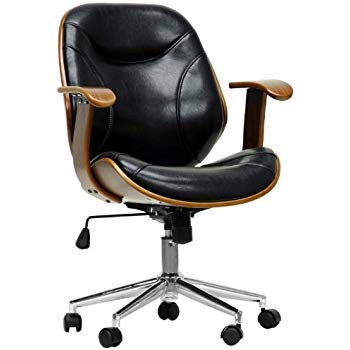chairs: (52, 3, 297, 348)
